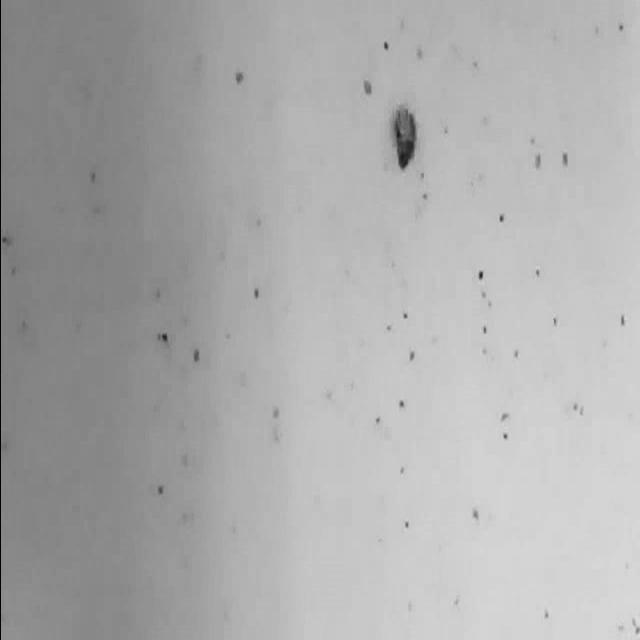larvas: (392, 103, 417, 169)
